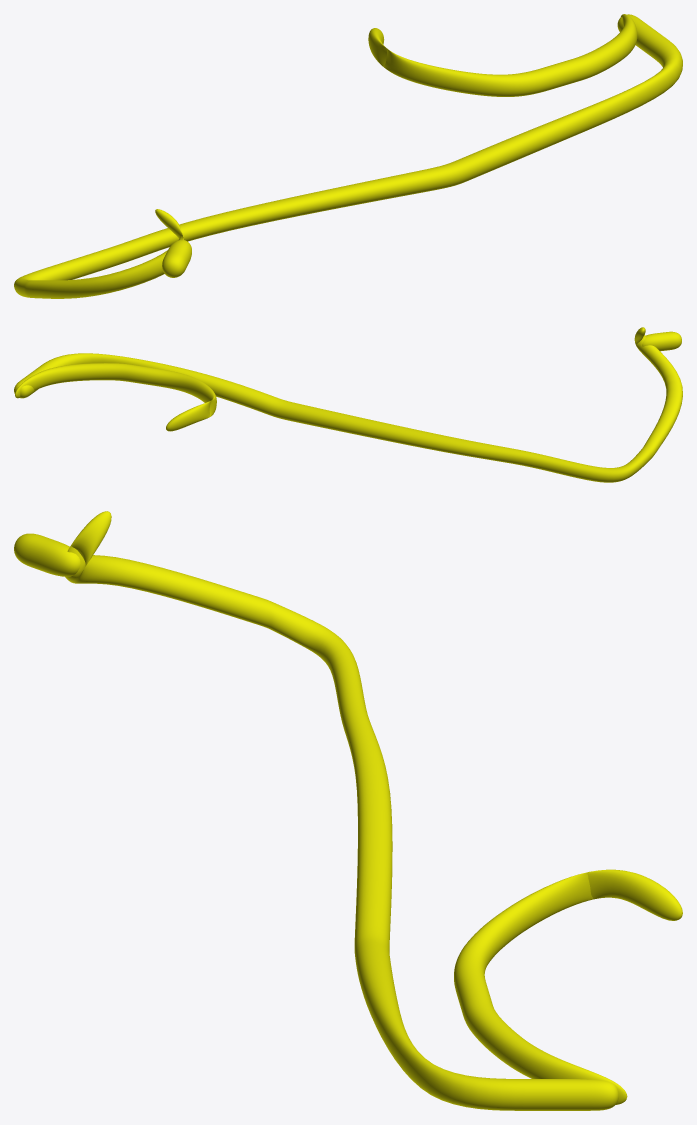
File: conducto deferente der1.fbx
3 renders of one model, top to bottom at view 1: azimuth 30°, elevation 25°; view 2: azimuth 150°, elevation 25°; view 3: azimuth 270°, elevation 25°, orthographic. The views are drawn at different scales.
Visible parts, largest first — view 1: Cube_002; view 2: Cube_002; view 3: Cube_002.
Part boxes in pixels (bbox=[...]): Cube_002: bbox=[14, 14, 682, 298]; Cube_002: bbox=[14, 327, 682, 482]; Cube_002: bbox=[14, 511, 682, 1110].
Size of the model in its own units: 27.8 by 5.14 by 16.01.
